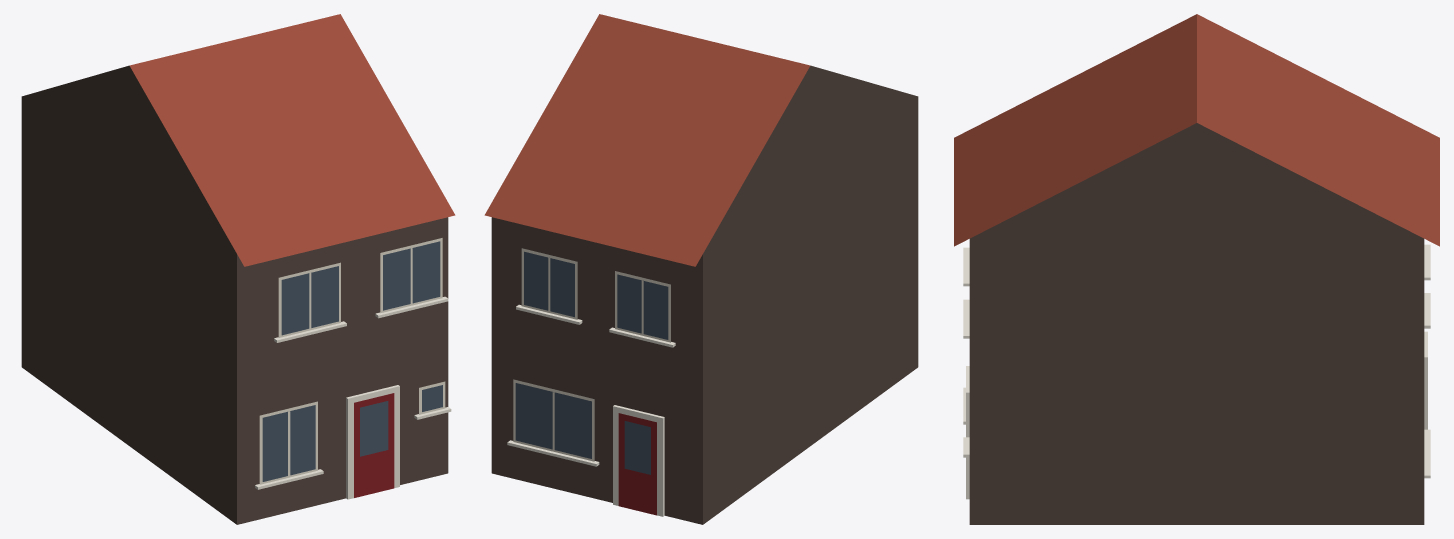
The model's file is nw-rowhouse-door-window__tile__2__gable__long__solid.glb.
The picture shows the model from 3 angles, left to right: view 1: azimuth 30°, elevation 25°; view 2: azimuth 150°, elevation 25°; view 3: azimuth 270°, elevation 25°; orthographic projection. The views are drawn at different scales.
Visible parts, largest first — view 1: nw-rowhouse-door-window__tile__2__gable__long__solid; view 2: nw-rowhouse-door-window__tile__2__gable__long__solid; view 3: nw-rowhouse-door-window__tile__2__gable__long__solid.
Part boxes in pixels (bbox=[...]): nw-rowhouse-door-window__tile__2__gable__long__solid: bbox=[21, 14, 455, 524]; nw-rowhouse-door-window__tile__2__gable__long__solid: bbox=[484, 14, 918, 524]; nw-rowhouse-door-window__tile__2__gable__long__solid: bbox=[954, 14, 1439, 524].
Bounding box in the file's own units: 4.98 × 8.58 × 9.39.
